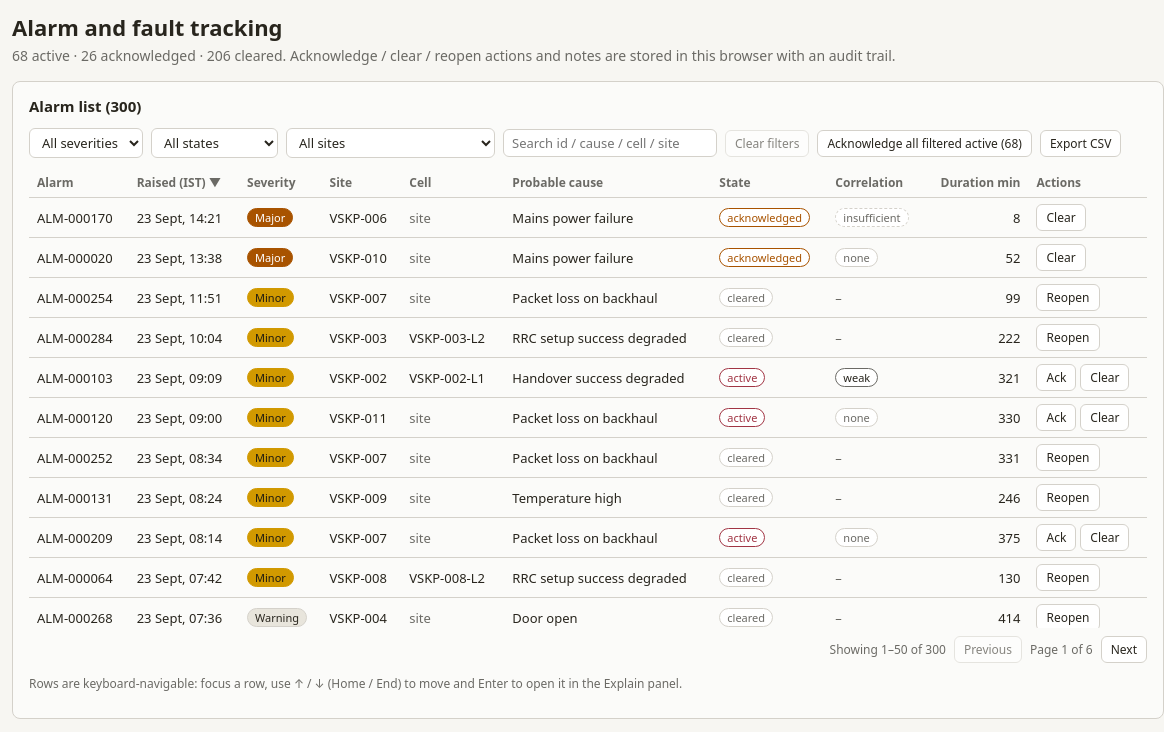
Test: Alarms page — table, filters, pagination › filters live while typing in the search box and commits the text to the URL on Enter
Type "door open" into the search field named "Search alarms".
click(610, 143); type("door open")  # box [503,129,717,157]
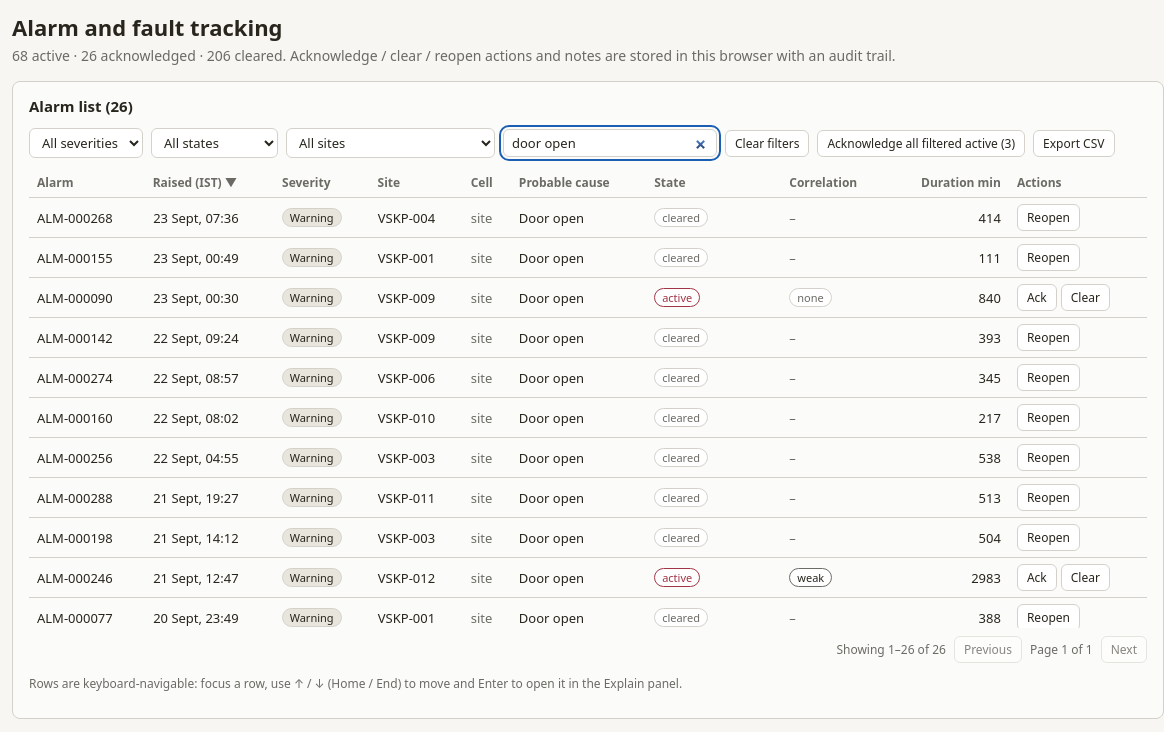
Press Enter
Click the button "Clear filters".
click(767, 143)  # box [725,130,809,156]
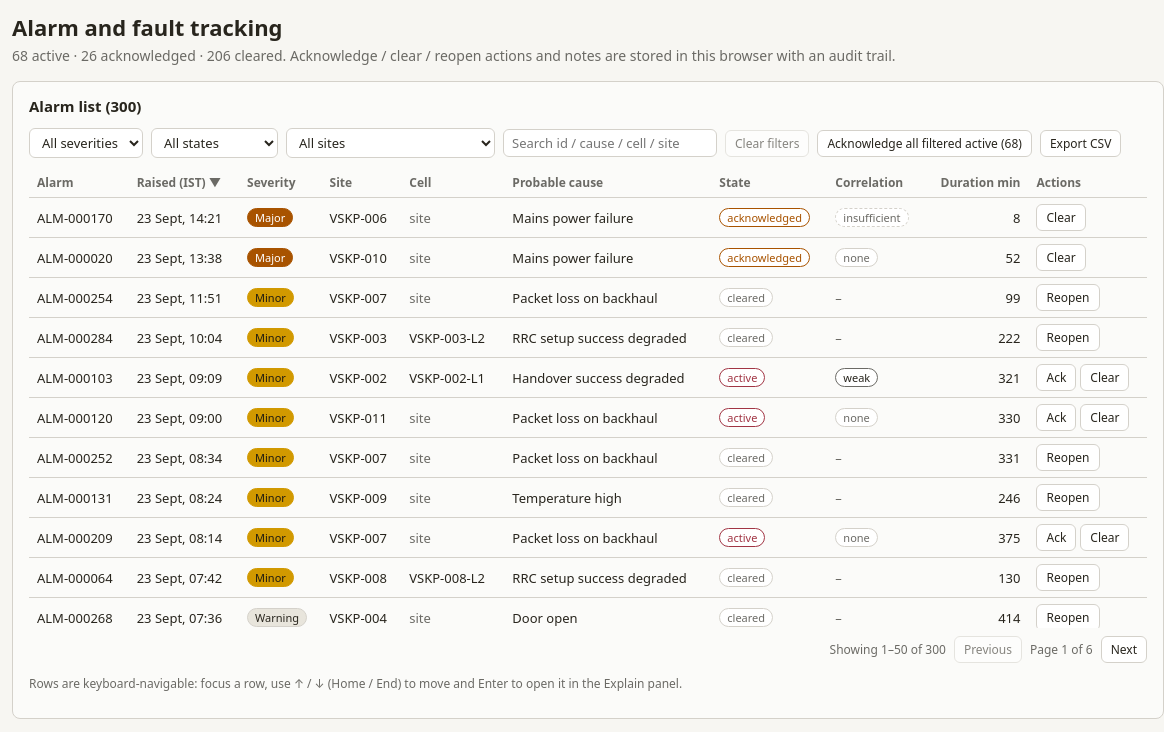
expect the heading "Alarm list (300)" is shown: met, box [29,96,141,116]
